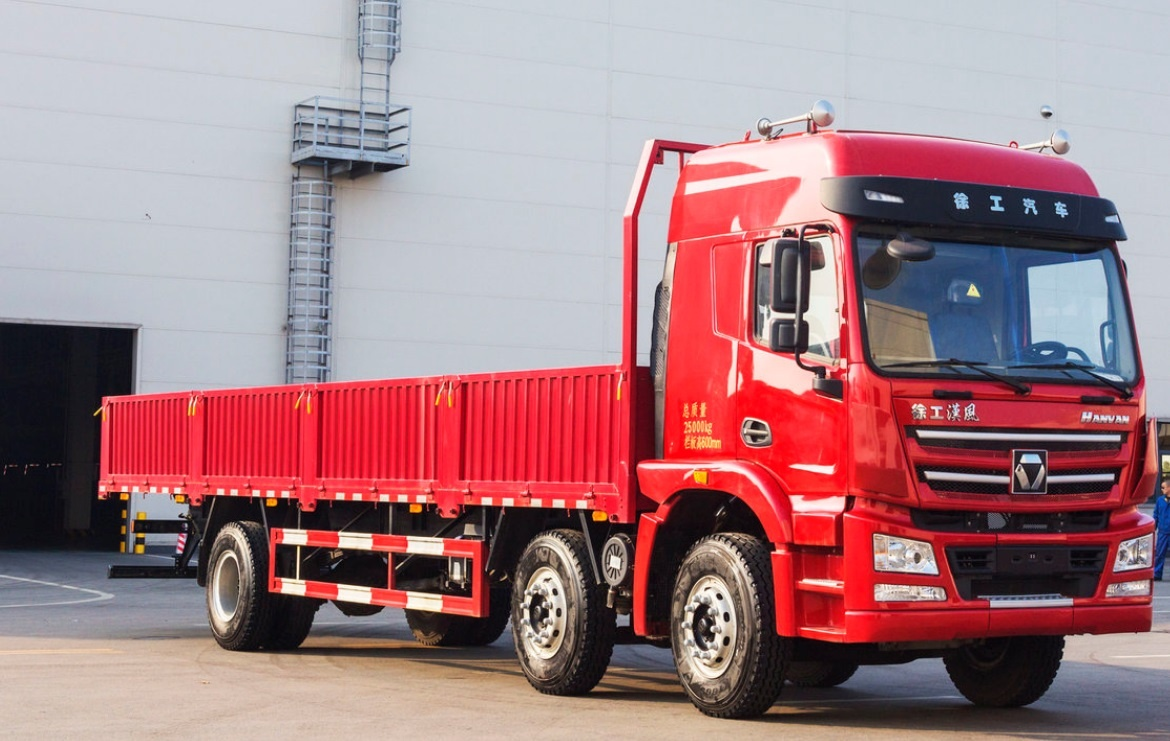heavy truck: (96, 93, 1148, 721)
